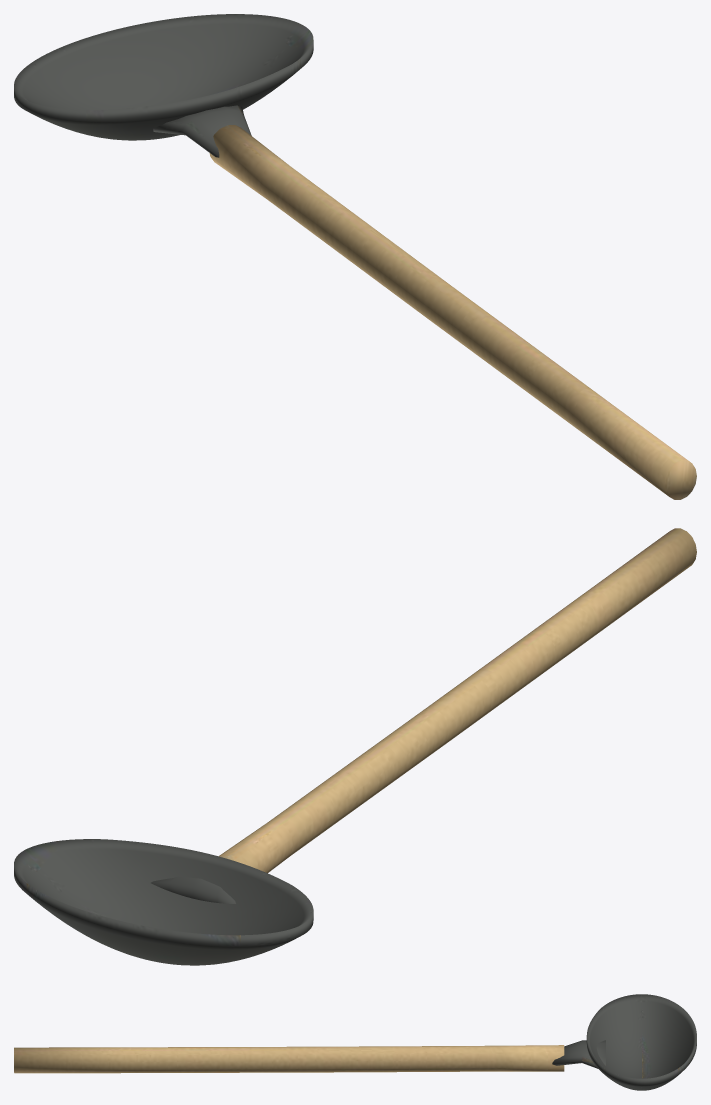
The picture shows the model from 3 angles, top to bottom: view 1: azimuth 30°, elevation 25°; view 2: azimuth 150°, elevation 25°; view 3: azimuth 270°, elevation 25°; orthographic projection. The views are drawn at different scales.
Parts seen in each view (by area): view 1: body; view 2: body; view 3: body.
Boxes of the visible parts, bbox=[...] form: body: bbox=[14, 14, 696, 499]; body: bbox=[14, 528, 696, 965]; body: bbox=[14, 994, 696, 1090].
Size of the model in its own units: 0.0921 by 0.0211 by 0.3142.
2 materials, 2 textured.
